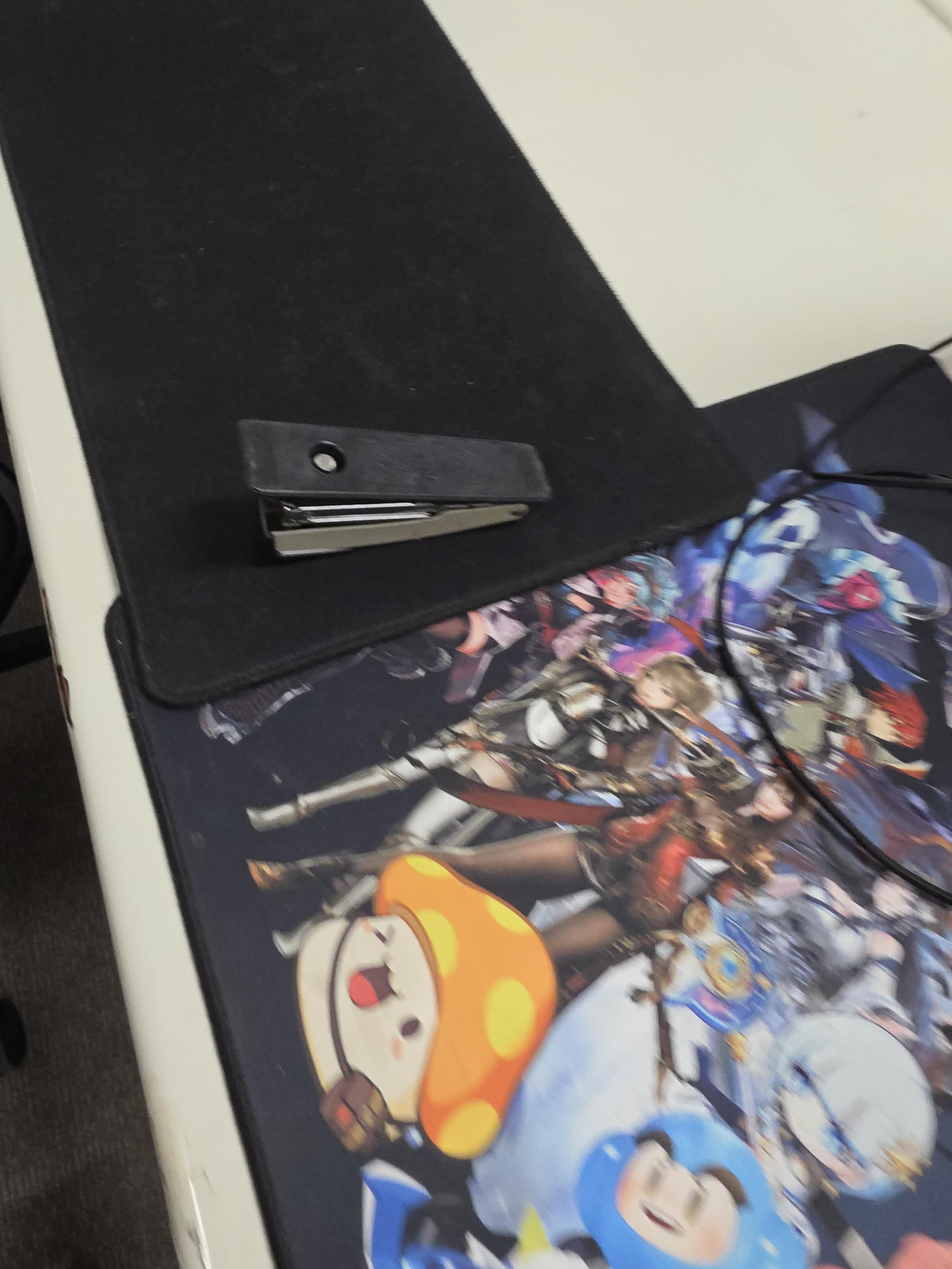stapler: (235, 418, 551, 557)
